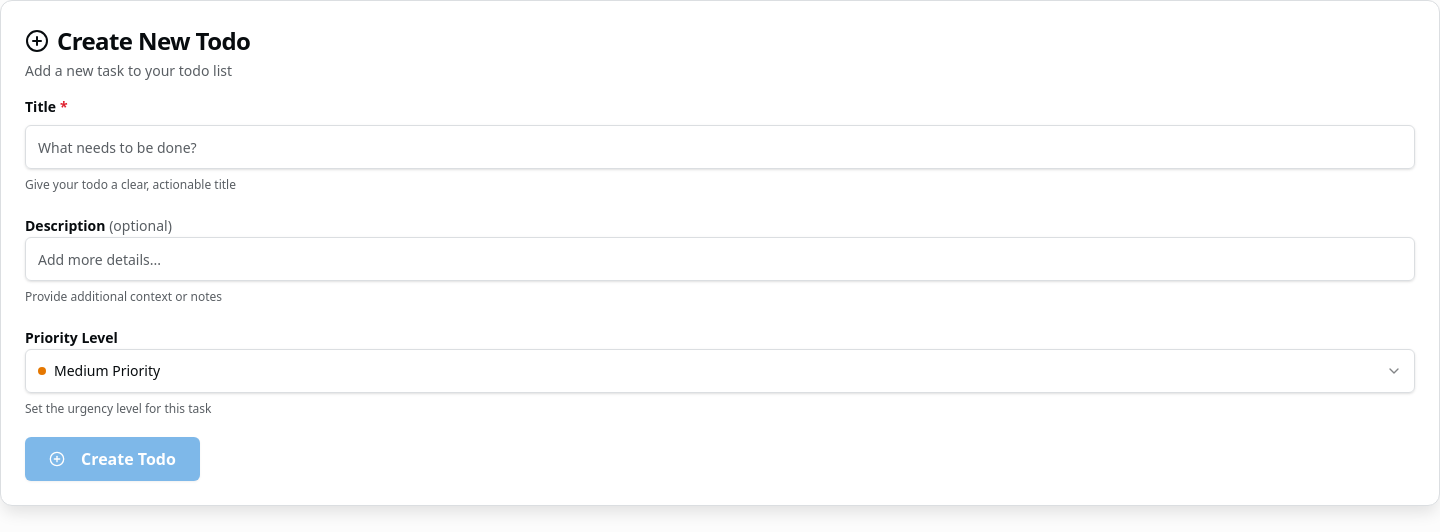
TodoForm › should disable submit button when submitting
Type "New Todo" into the field labelled "Title *" at (720, 147), box [25,125,1415,169]
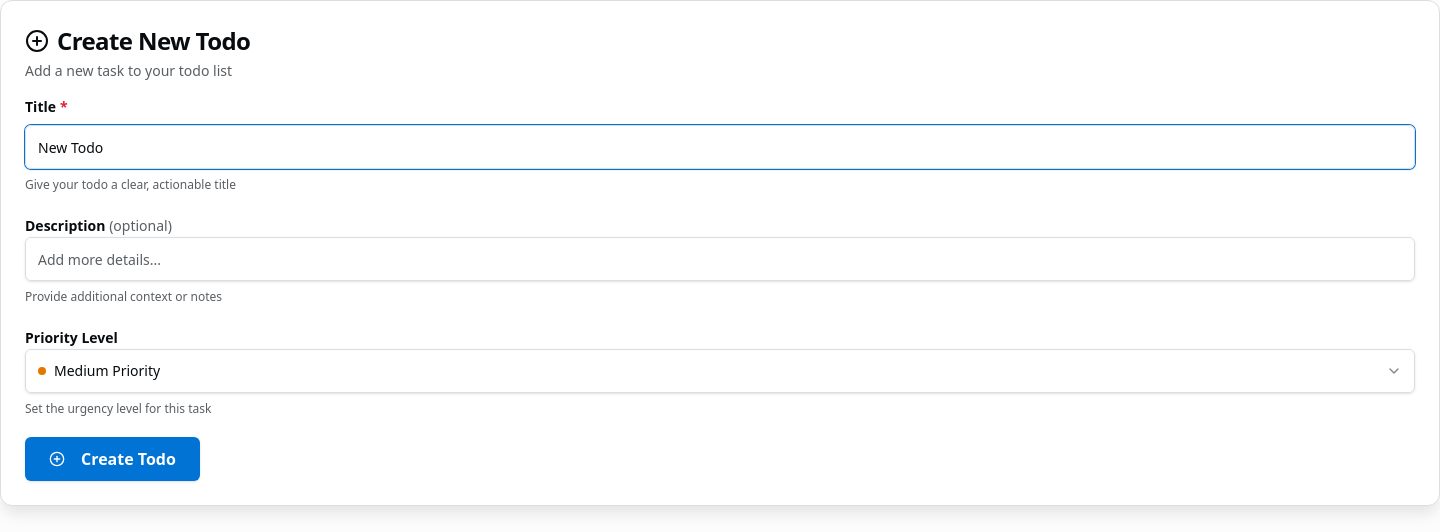
Click the button "Create Todo" at (112, 459), box [25,437,200,481]
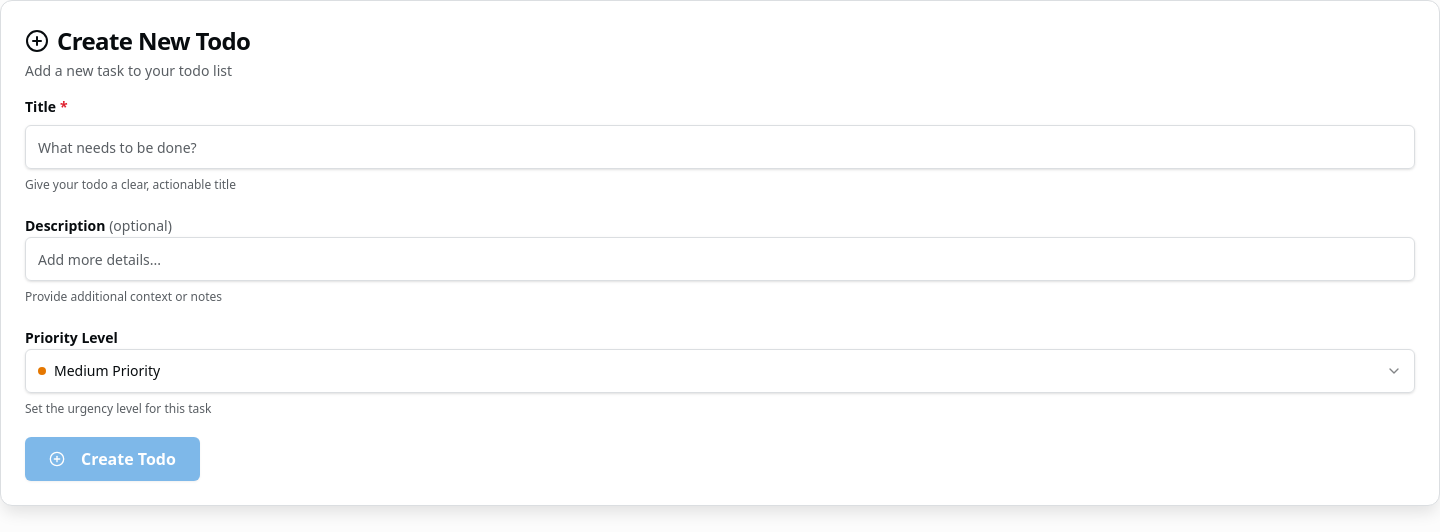
Expected: the button "Create Todo" is disabled, [25,437,200,481]
